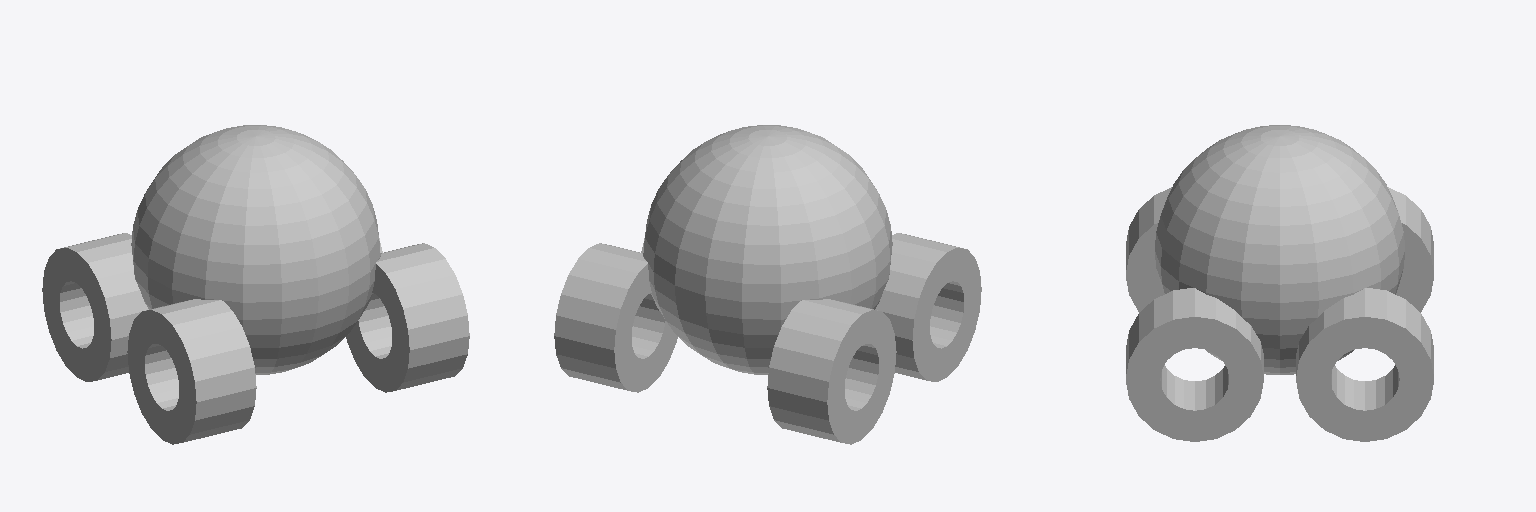
The model's file is AIVehicle.obj.
The picture shows the model from 3 angles: view 1: azimuth 30°, elevation 25°; view 2: azimuth 150°, elevation 25°; view 3: azimuth 270°, elevation 25°; orthographic projection.
Visible parts, largest first — view 1: Body, BL, BR, FL; view 2: Body, FL, FR, BL; view 3: Body, BR, FR, FL, BL.
Boxes of the visible parts, <box> form: Body: <box>131,125,380,374</box>; BL: <box>127,299,256,444</box>; BR: <box>346,243,469,392</box>; FL: <box>42,233,148,381</box>; Body: <box>643,125,892,374</box>; FL: <box>767,299,896,444</box>; FR: <box>554,243,677,392</box>; BL: <box>875,233,981,381</box>; Body: <box>1155,125,1404,374</box>; BR: <box>1126,288,1263,441</box>; FR: <box>1296,288,1433,441</box>; FL: <box>1388,187,1433,312</box>; BL: <box>1126,187,1171,312</box>.
Bounding box in the file's own units: 2.51 × 2.1 × 2.46.